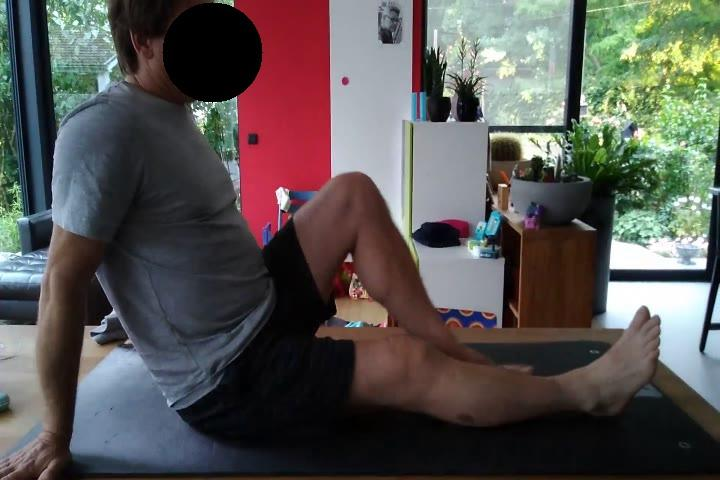lower_body: (182, 169, 665, 438)
